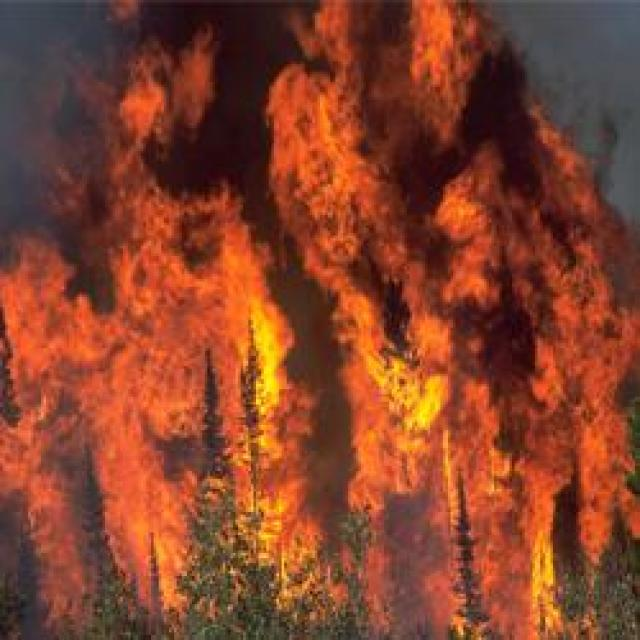fire: (4, 68, 597, 611)
